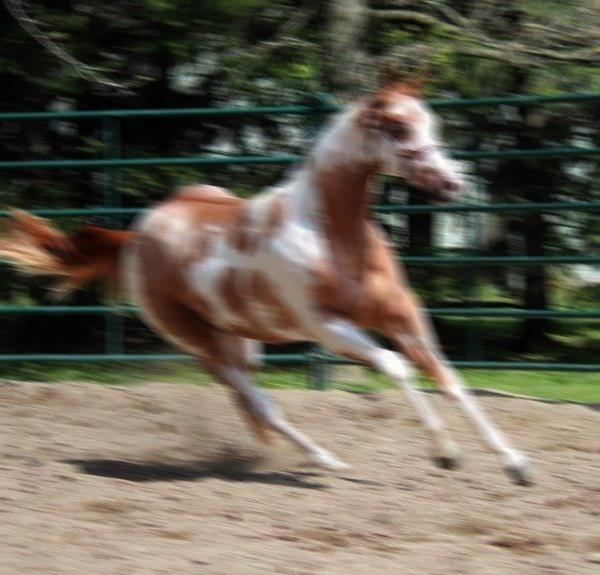horse: (0, 58, 536, 484)
